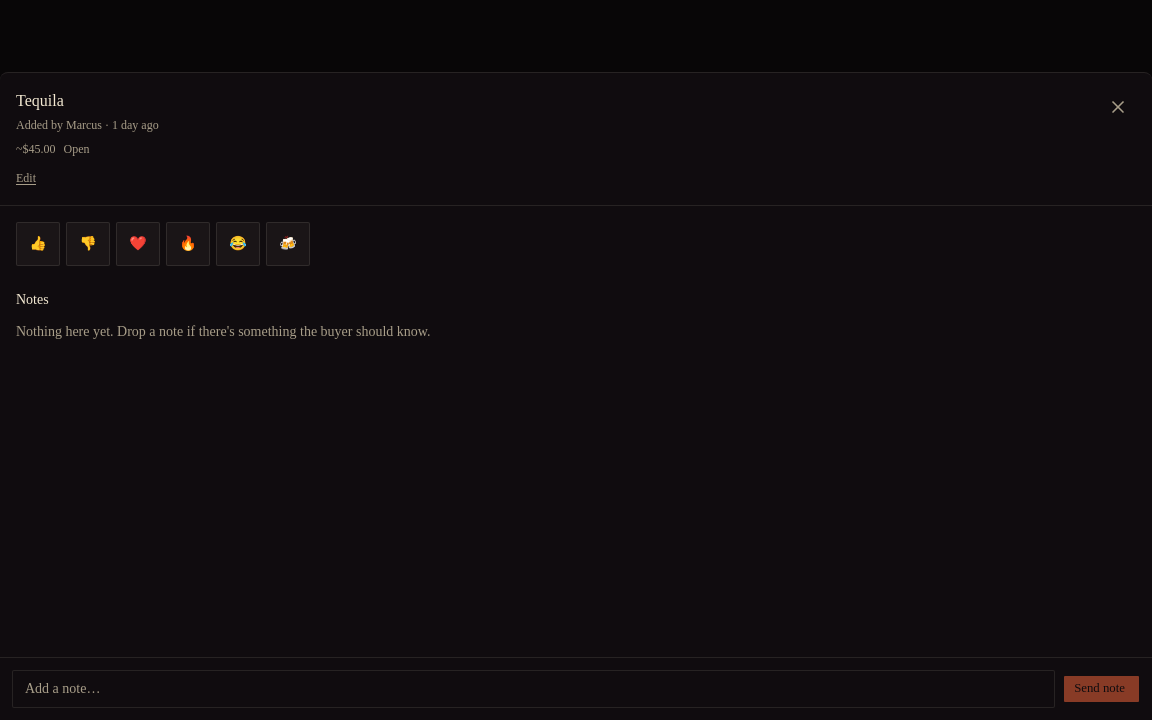
Test case: <ShoppingItemSheet /> › Edit reveals the form prefilled with current name/category/cost
Click the button "Edit": point(26, 178) left=16, top=170, right=36, bottom=186
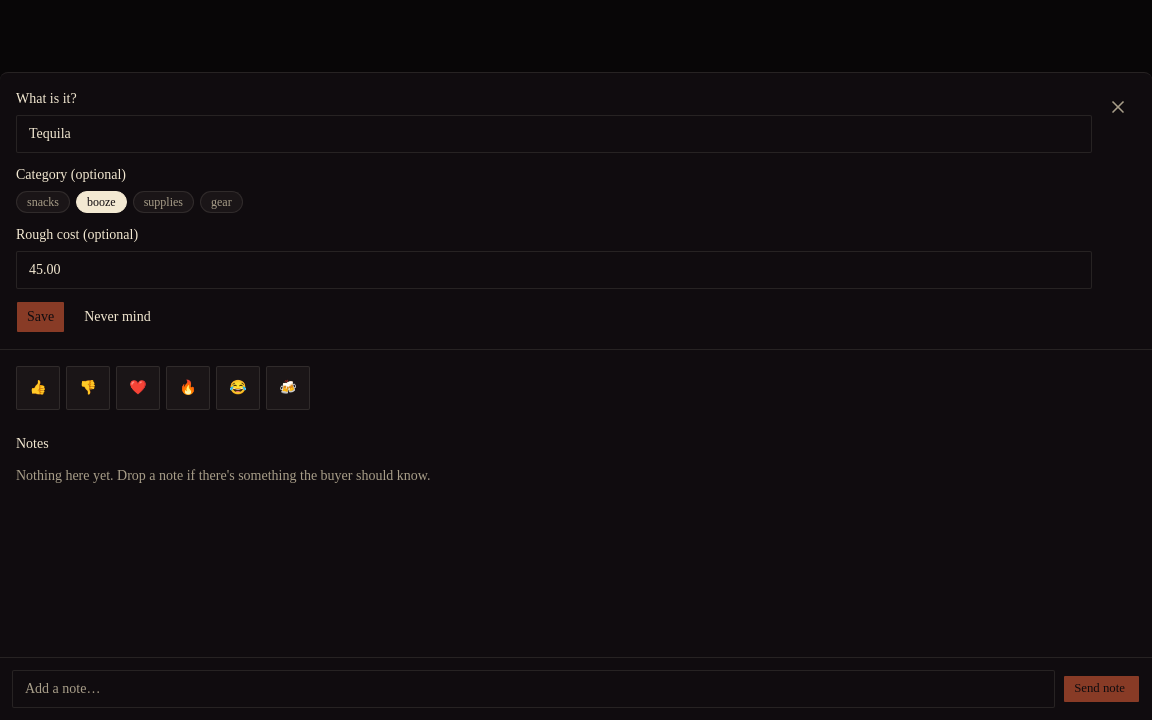
Result: the field showing "Tequila" is shown at left=16, top=115, right=1092, bottom=153
Result: the field showing "45.00" is shown at left=16, top=251, right=1092, bottom=289
